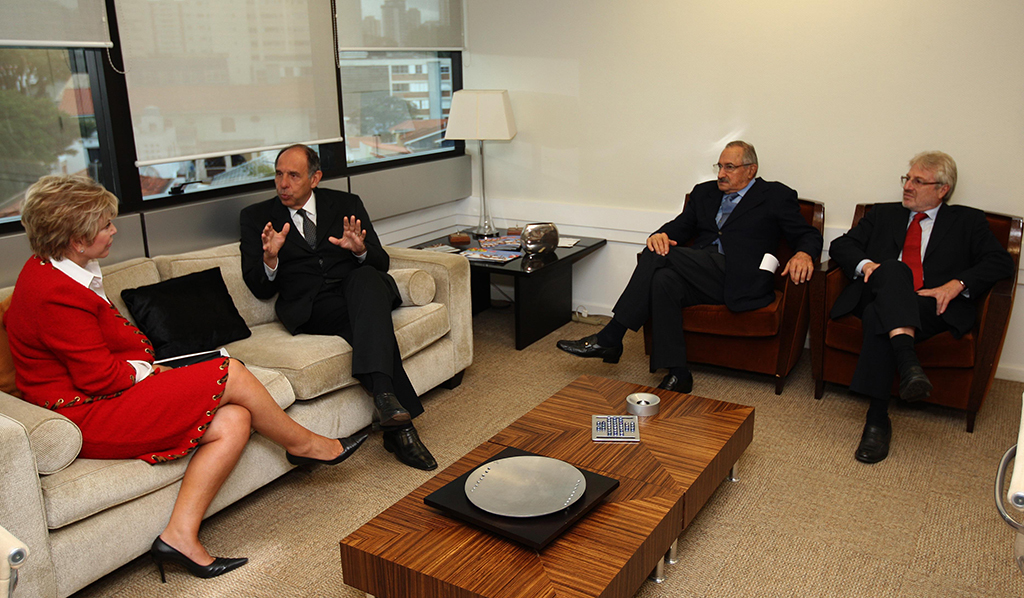plate: (455, 448, 586, 530)
